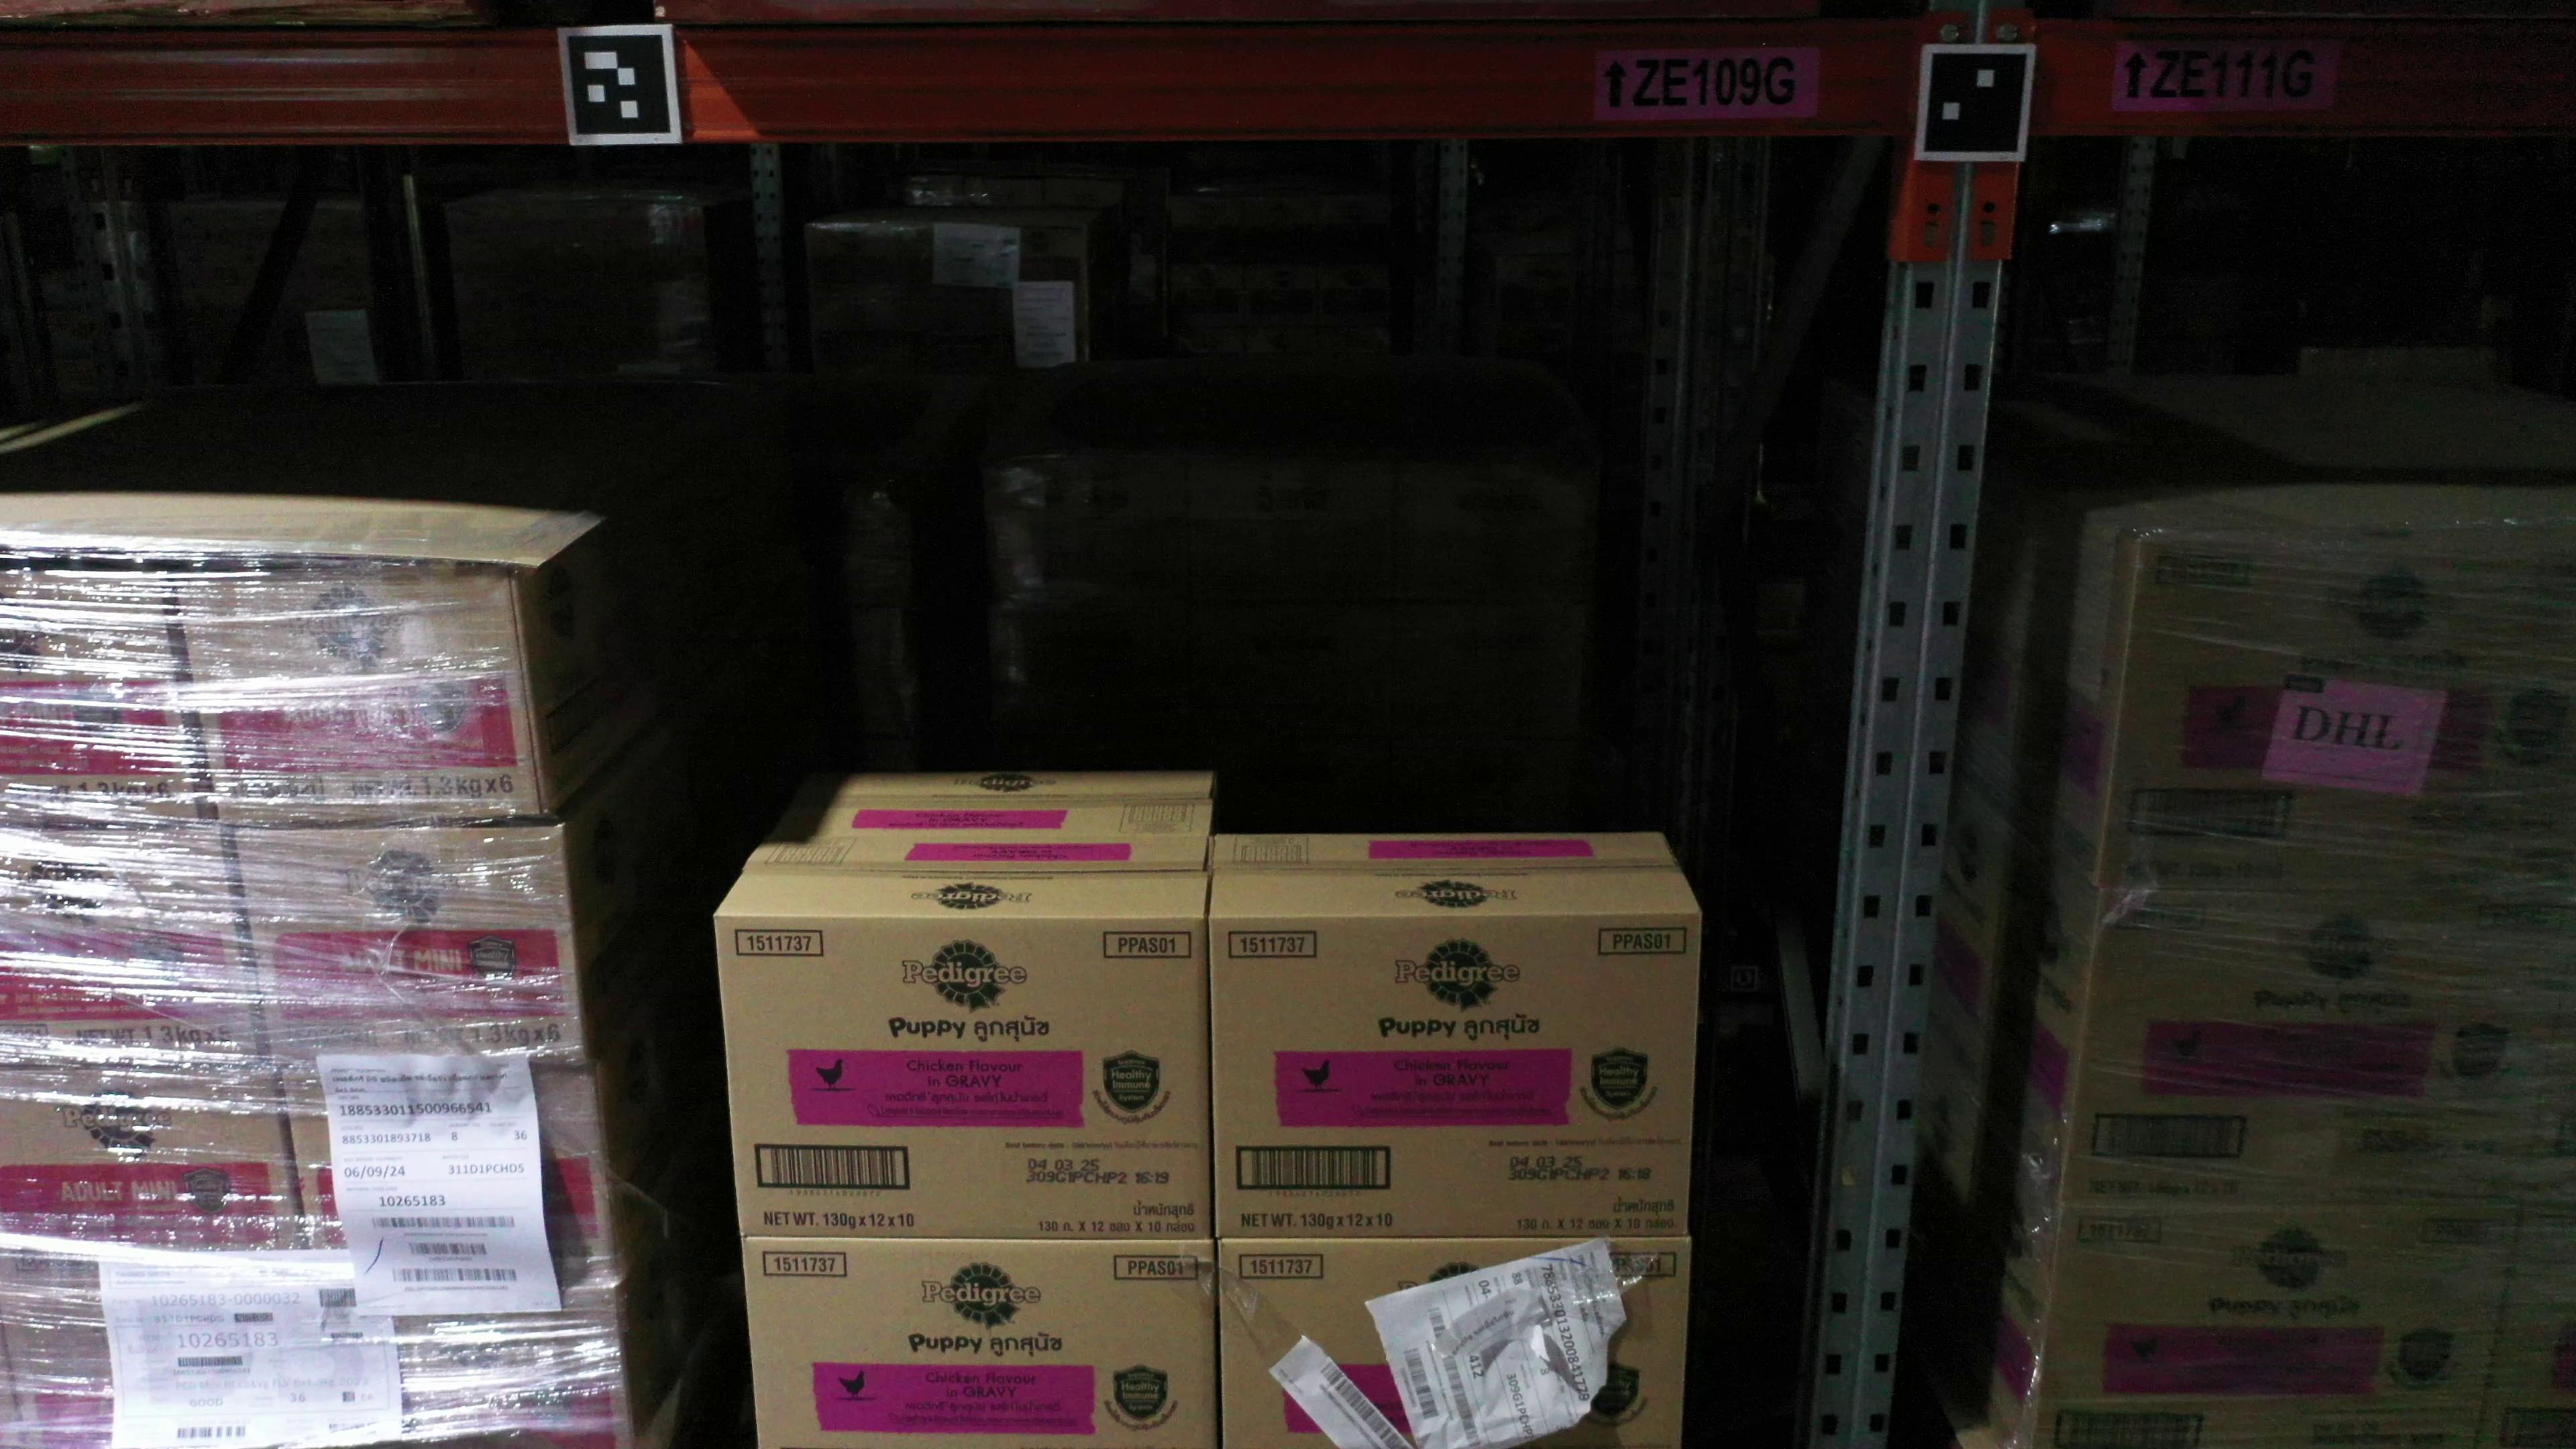-: (2104, 525, 2571, 904), (2058, 888, 2574, 1210), (715, 915, 1214, 1240), (1207, 916, 1700, 1244), (2031, 1210, 2525, 1449), (1219, 1235, 1691, 1449), (740, 1240, 1214, 1449), (177, 561, 545, 828), (235, 830, 586, 1070), (280, 1067, 612, 1290), (0, 1069, 304, 1293), (0, 824, 264, 1074), (2, 1290, 336, 1449), (311, 1286, 635, 1449), (0, 566, 203, 824), (2484, 1210, 2576, 1449)
box: (1187, 455, 1396, 603), (989, 451, 1187, 607), (1391, 456, 1594, 603), (989, 603, 1194, 740), (1187, 607, 1392, 743), (1391, 603, 1587, 740), (1196, 738, 1392, 839), (1391, 736, 1573, 828)
